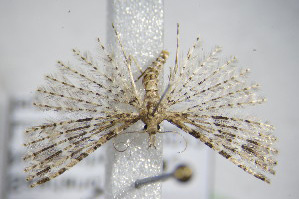Alucitidae: (23, 20, 280, 187)
moth: (21, 18, 278, 185)
